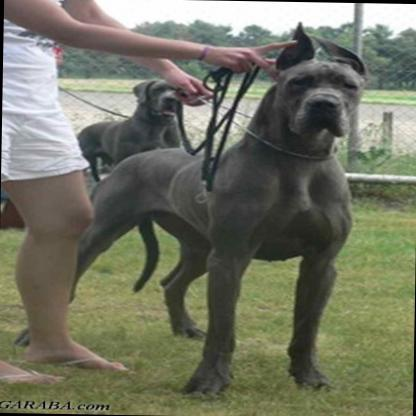Great_Dane: (10, 19, 370, 402), (71, 72, 190, 183)
